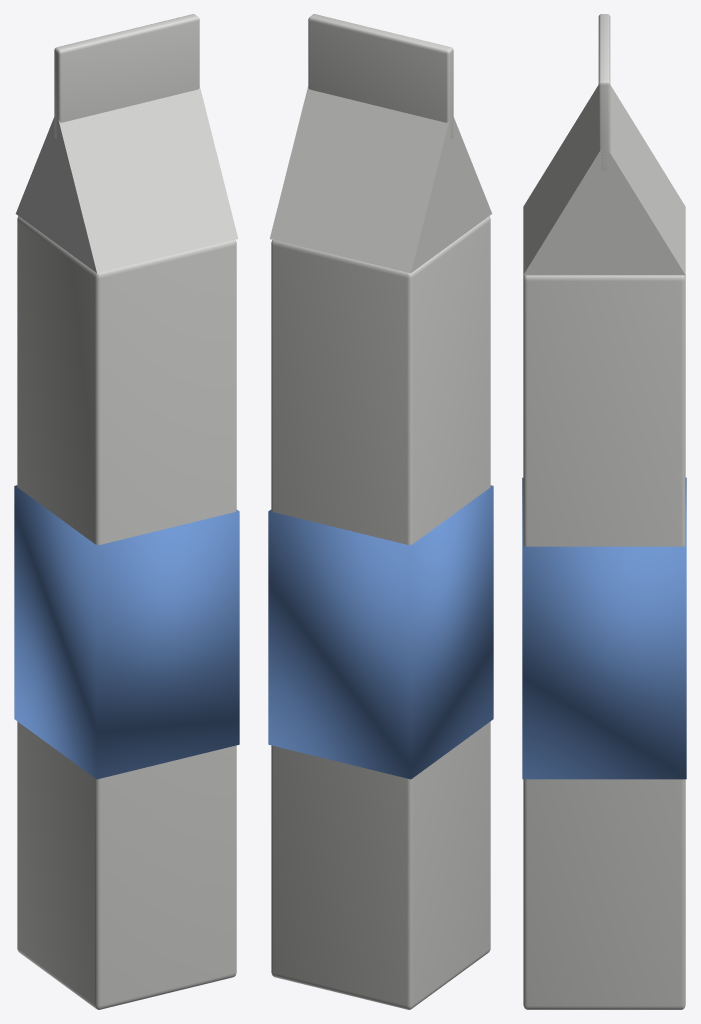
Rendered from milk_carton.glb.
3 renders of one model, left to right at view 1: azimuth 30°, elevation 25°; view 2: azimuth 150°, elevation 25°; view 3: azimuth 270°, elevation 25°, orthographic.
Parts seen in each view (by area): view 1: Cube.003, Cube.004, wedge.001, Cube.005; view 2: Cube.003, Cube.004, wedge.001, Cube.005; view 3: Cube.003, Cube.004, wedge.001, Cube.005.
Part boxes in pixels (bbox=[...]): Cube.003: bbox=[17, 216, 236, 1009]; Cube.004: bbox=[14, 485, 239, 779]; wedge.001: bbox=[15, 86, 238, 273]; Cube.005: bbox=[54, 14, 199, 139]; Cube.003: bbox=[271, 216, 490, 1009]; Cube.004: bbox=[268, 485, 493, 779]; wedge.001: bbox=[269, 86, 492, 273]; Cube.005: bbox=[308, 14, 453, 139]; Cube.003: bbox=[523, 275, 685, 1009]; Cube.004: bbox=[522, 477, 686, 779]; wedge.001: bbox=[523, 85, 685, 275]; Cube.005: bbox=[598, 14, 610, 171].
Size of the model in its own units: 1.92 by 12 by 1.92.
